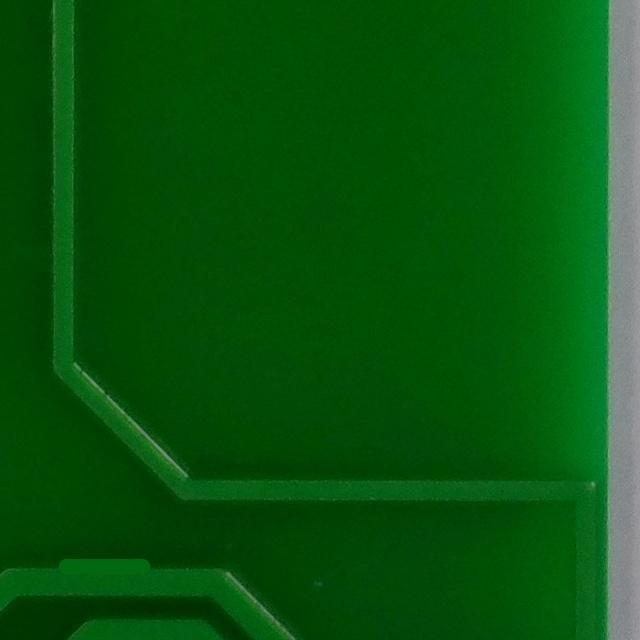spur: (43, 542, 171, 606)
